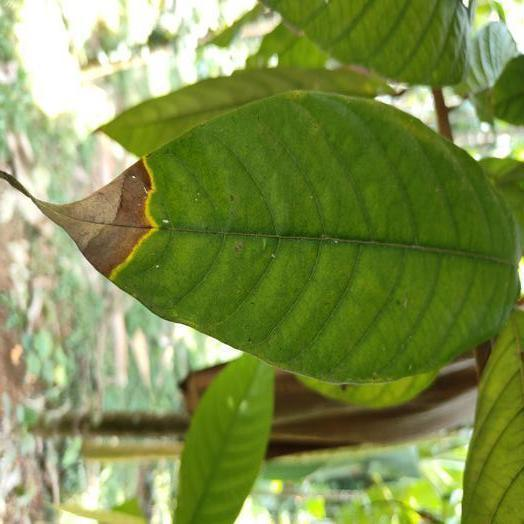Potassium: (30, 91, 518, 382)
